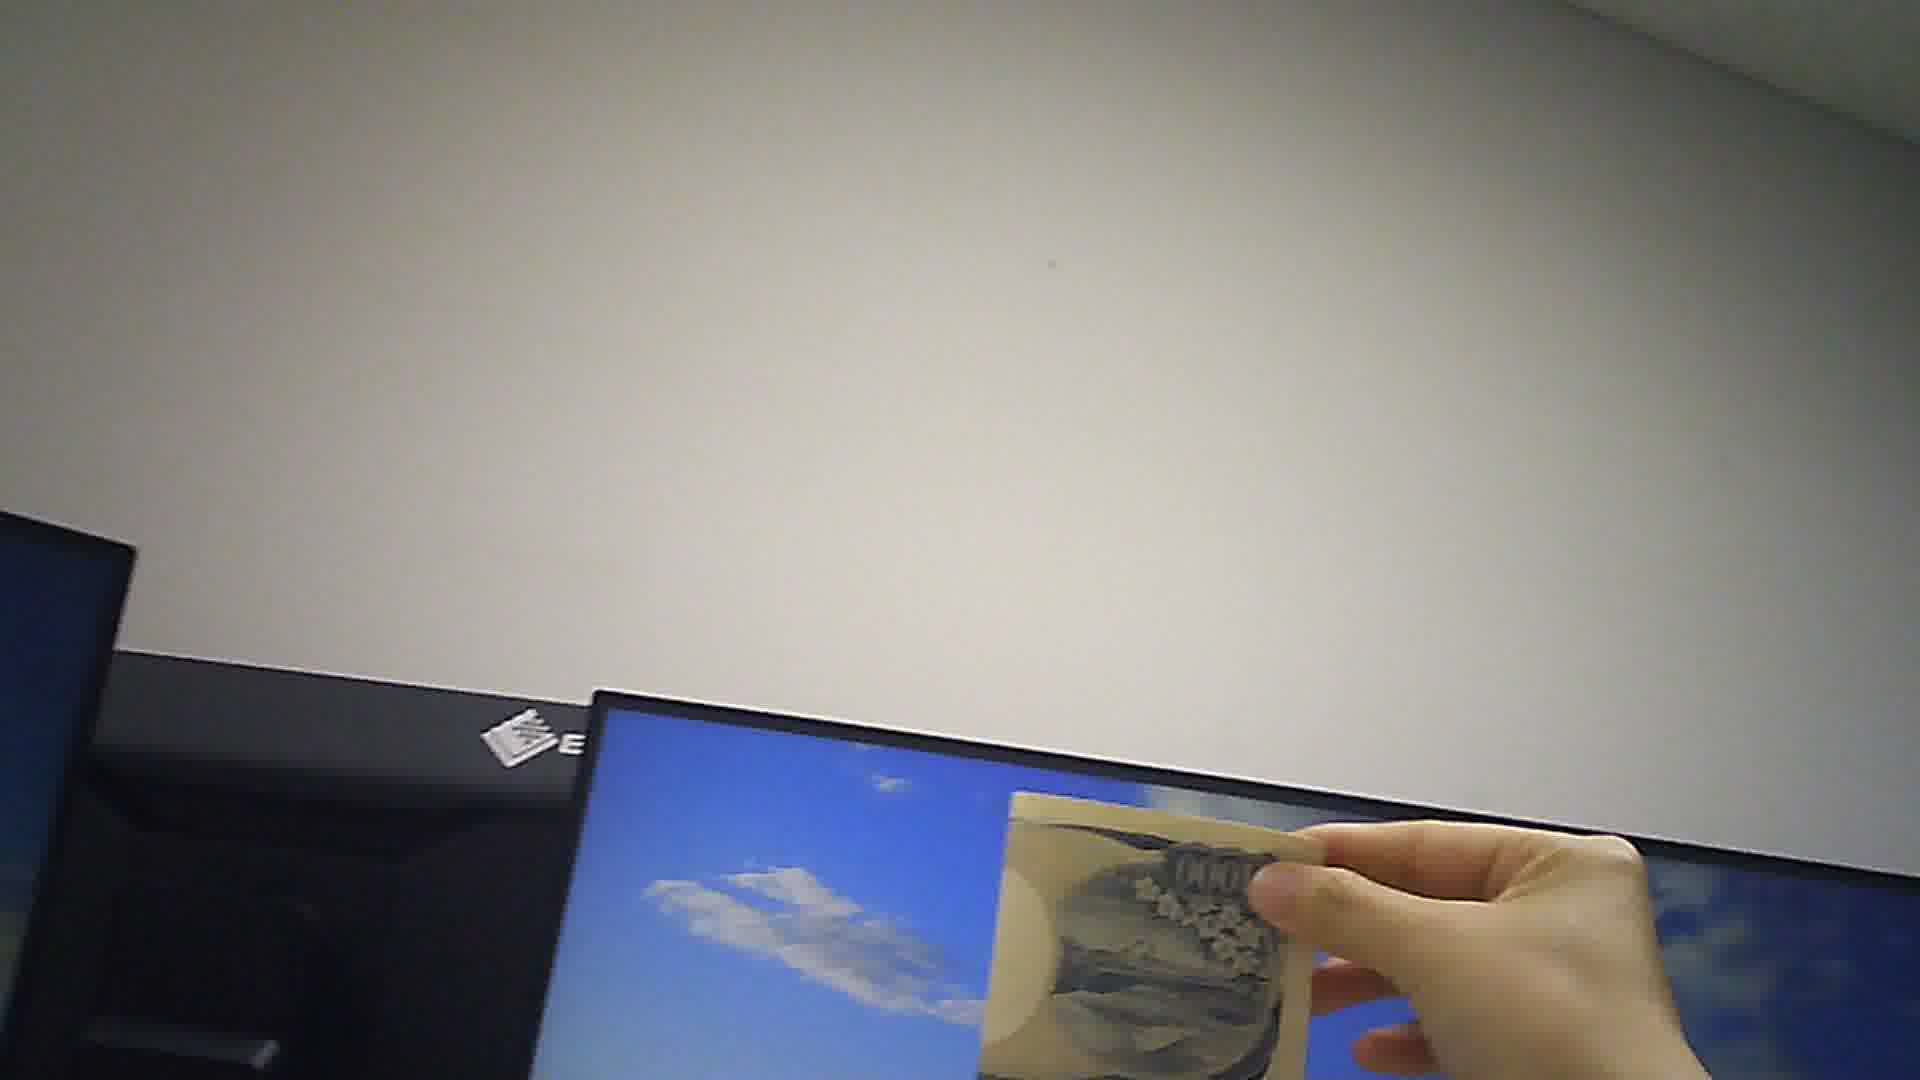1,000 Yen: (982, 786, 1311, 1079)
